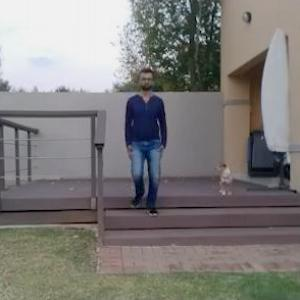follow: (121, 69, 160, 222)
